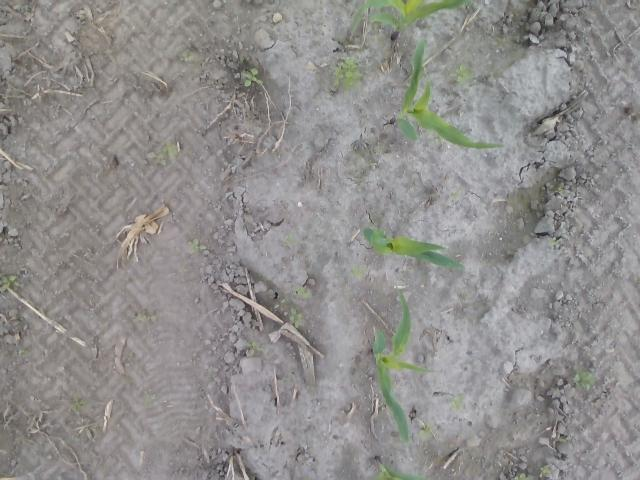Maize: (384, 34, 504, 151), (369, 291, 437, 442), (363, 226, 467, 272), (349, 6, 469, 42), (373, 455, 428, 480)
Weeds: (334, 54, 361, 90), (574, 369, 592, 390), (456, 64, 472, 83), (160, 140, 177, 157), (240, 69, 257, 86), (0, 274, 18, 290), (419, 422, 434, 440), (450, 393, 464, 410), (290, 308, 302, 327), (349, 264, 364, 278), (192, 238, 206, 251), (296, 286, 311, 298), (246, 342, 262, 352), (181, 50, 194, 62), (513, 472, 531, 480), (540, 464, 551, 475)
